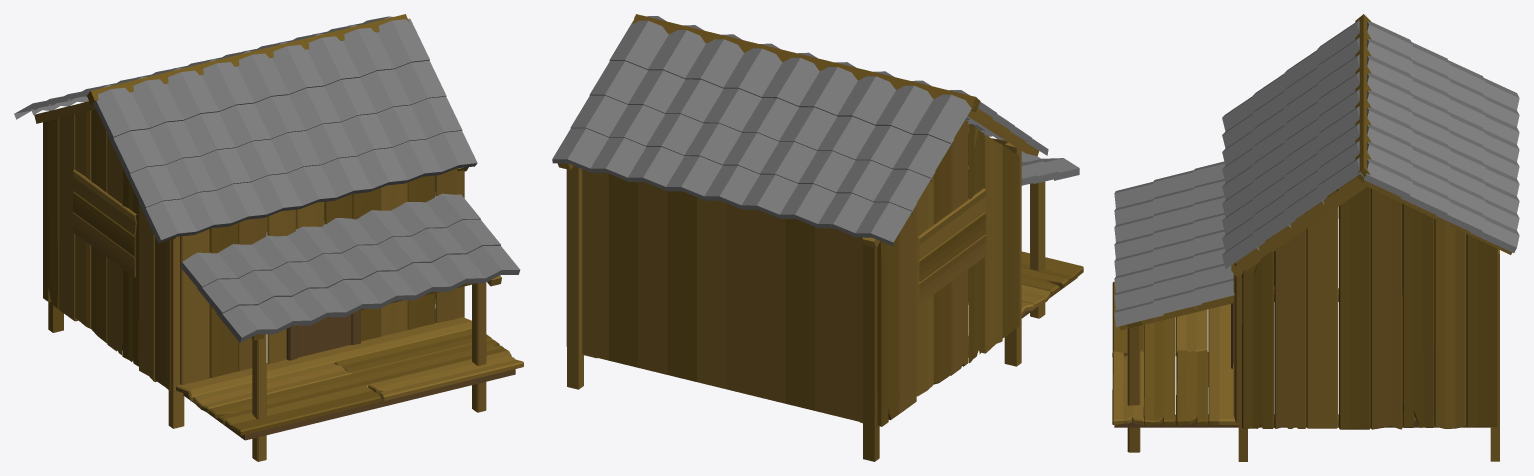
Rendered from casinha1.fbx.
3 views of the same model, side by side, from view 1: azimuth 30°, elevation 25°; view 2: azimuth 150°, elevation 25°; view 3: azimuth 270°, elevation 25° (orthographic). The views are drawn at different scales.
Visible parts, largest first — view 1: newTelha.008, estrutura, estrutura.001, estrutura.003; view 2: newTelha.008, estrutura.002, estrutura.001, estrutura; view 3: newTelha.008, estrutura.004, estrutura.
Part boxes in pixels (bbox=[...]): newTelha.008: bbox=[14, 14, 520, 461]; estrutura: bbox=[176, 168, 523, 435]; estrutura.001: bbox=[43, 109, 170, 390]; estrutura.003: bbox=[286, 310, 360, 360]; newTelha.008: bbox=[552, 14, 1079, 461]; estrutura.002: bbox=[582, 169, 862, 422]; estrutura.001: bbox=[877, 119, 1019, 426]; estrutura: bbox=[968, 133, 1083, 316]; newTelha.008: bbox=[1114, 14, 1519, 461]; estrutura.004: bbox=[1242, 187, 1498, 429]; estrutura: bbox=[1112, 262, 1238, 425].
Size of the model in its own units: 603 by 548 by 667.
